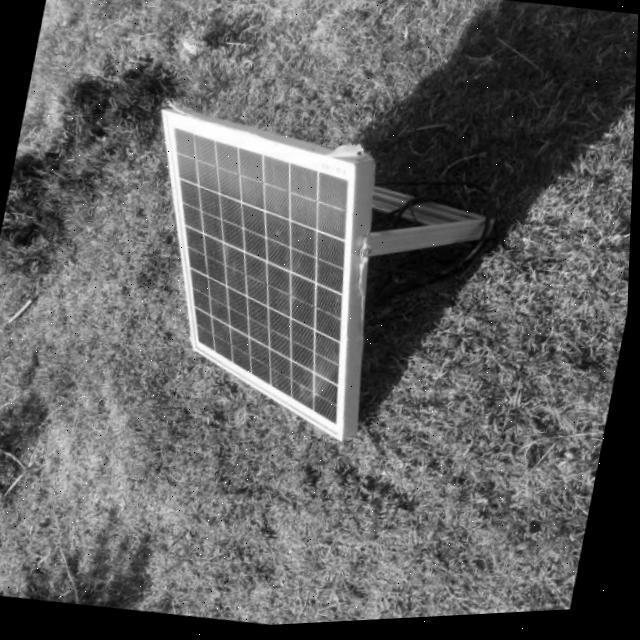Normal Solar Panel: (106, 101, 403, 454)
